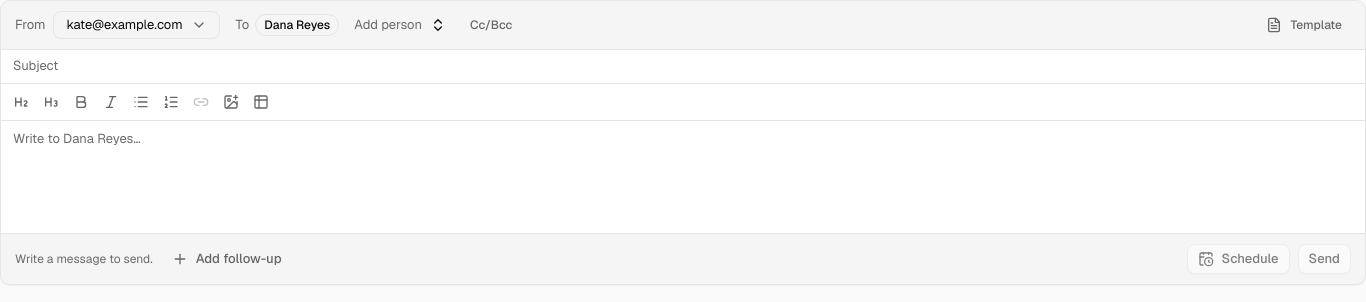
it: FR-CRMS-2: the compose box sends from the member’s own connected personal mailbox › lists only their own personal, connected mailboxes under From — no pool, no one else’s
Click the dropdown named "From" at (136, 25), box [53,11,220,39]
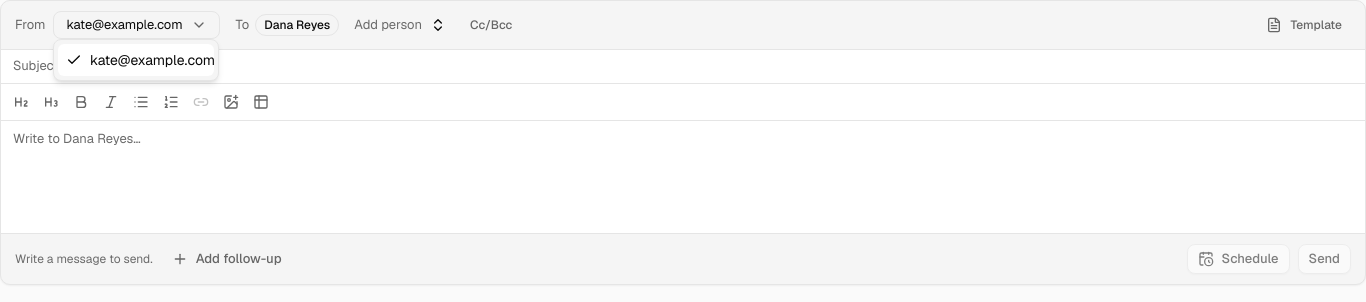
Check: the options read "kate@example.com", in this order, box [58,44,214,76]
